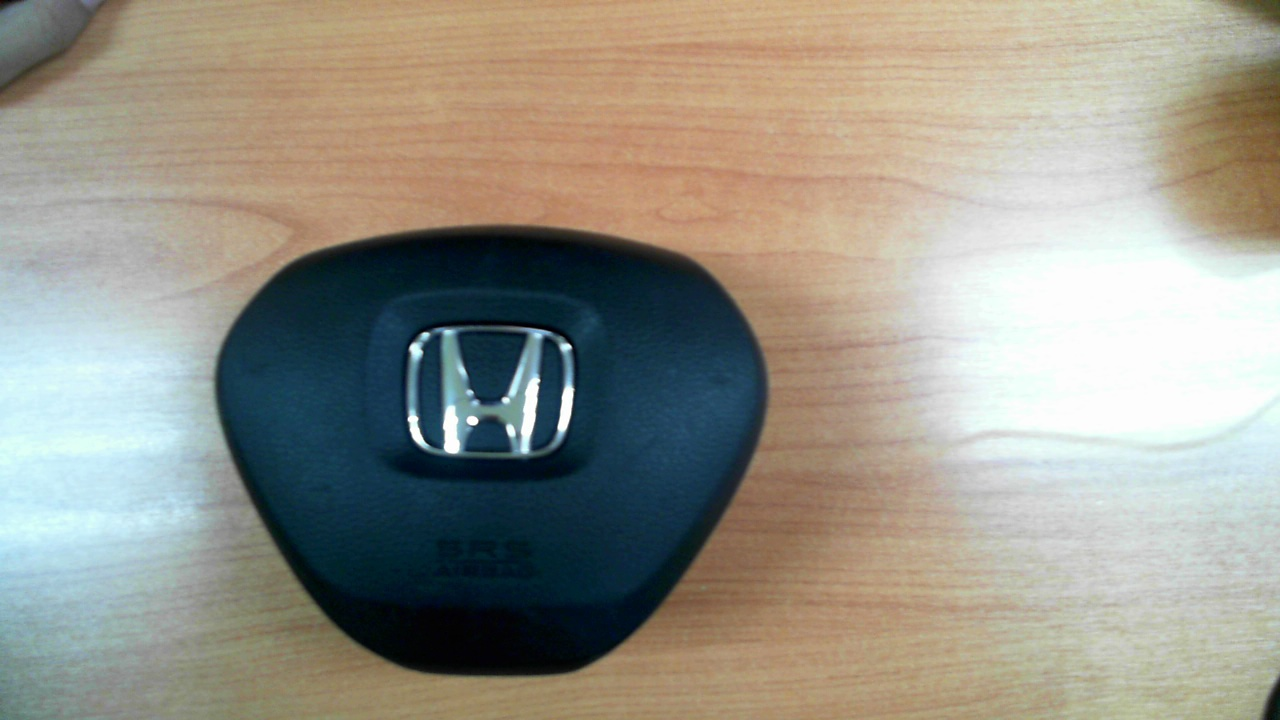Airbag: (214, 224, 769, 678)
Honda: (407, 325, 574, 459)
